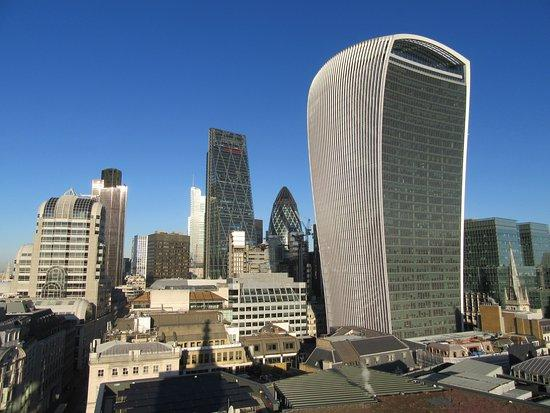Walkie talkie: (300, 27, 481, 335)
